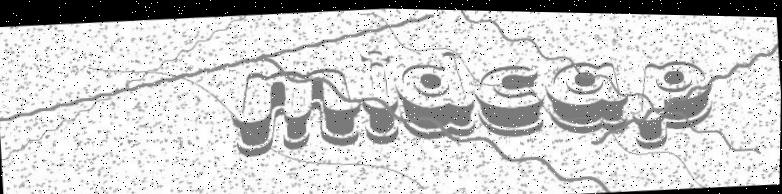a: (543, 56, 630, 135)
c: (473, 60, 546, 137)
d: (393, 46, 478, 140)
i: (358, 48, 401, 144)
m: (230, 64, 363, 158)
p: (630, 56, 714, 148)
